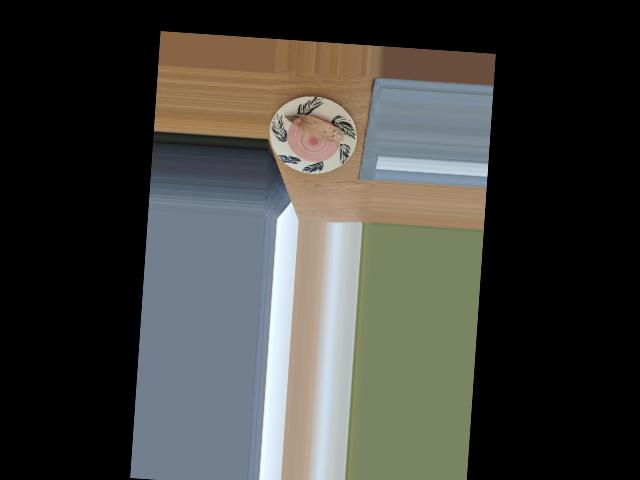sweet_potato: (288, 108, 343, 146)
